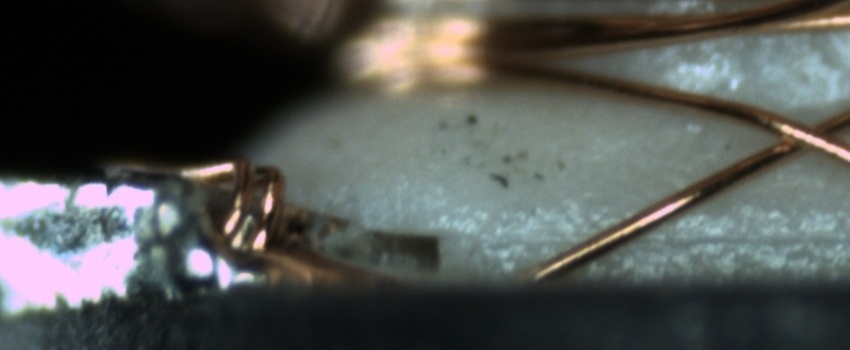CL: (757, 104, 848, 161)
DL: (486, 205, 849, 267)
TE: (184, 151, 290, 255)
